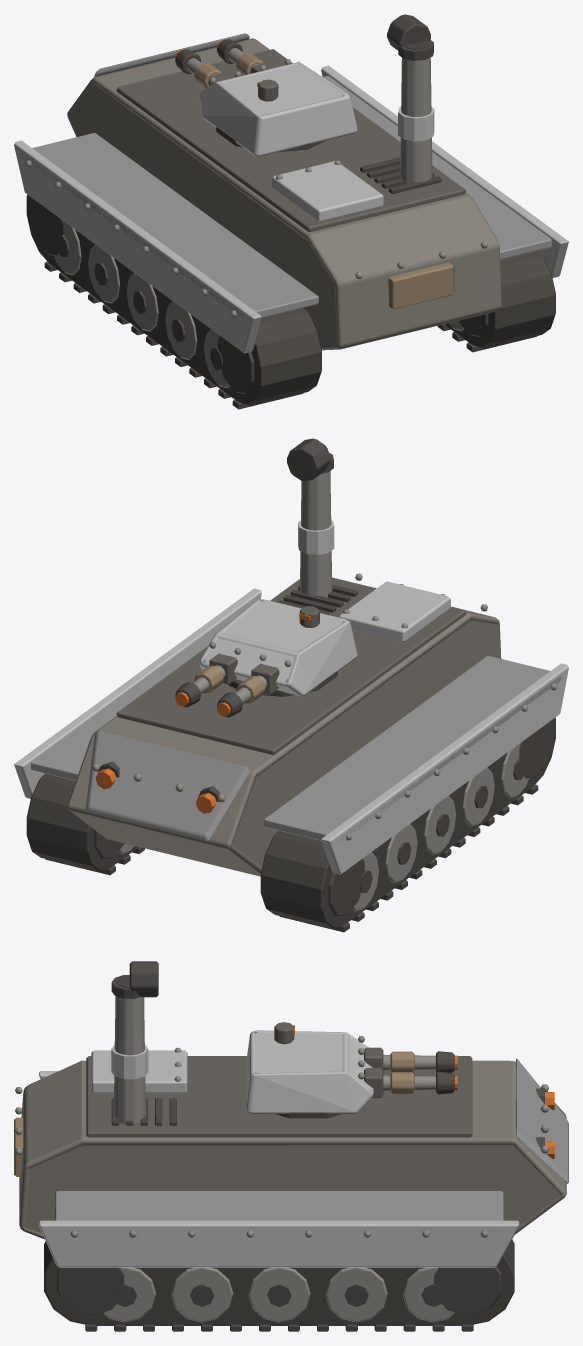
File: crucible_amphibious.glb
3 renders of one model, top to bottom at view 1: azimuth 30°, elevation 25°; view 2: azimuth 150°, elevation 25°; view 3: azimuth 270°, elevation 25°, orthographic.
Parts seen in each view (by area): view 1: Body, Turret; view 2: Body, Turret; view 3: Body, Turret.
Boxes of the visible parts, x1,y1,x2,y2 form: Body: (14, 14, 568, 409); Turret: (175, 39, 357, 156); Body: (14, 438, 568, 932); Turret: (175, 599, 357, 717); Body: (14, 961, 568, 1331); Turret: (246, 1022, 457, 1118).
Size of the model in its own units: 1.56 by 1.47 by 2.3.
